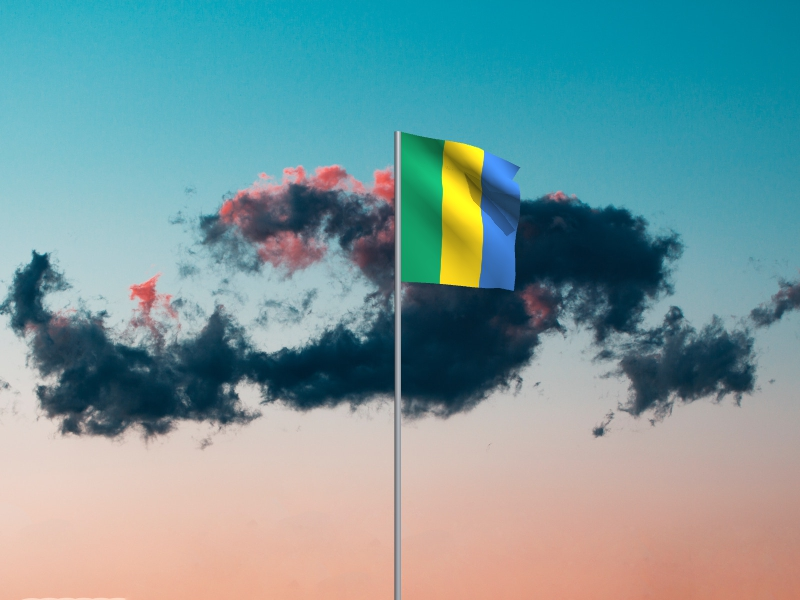ga: (402, 133, 522, 292)
